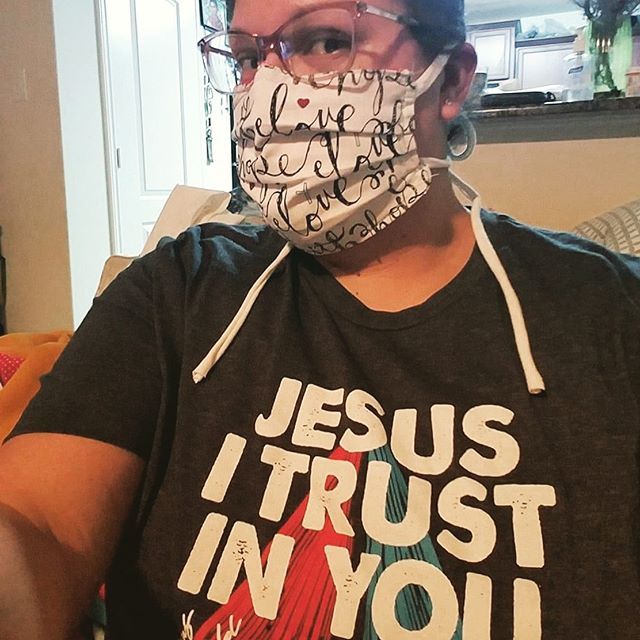homemade: (220, 72, 435, 252)
